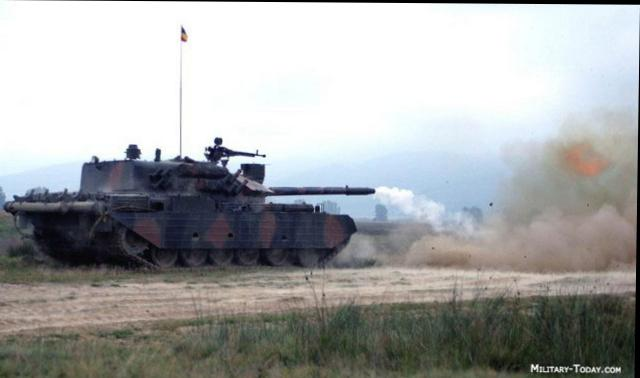other: (16, 149, 353, 265)
